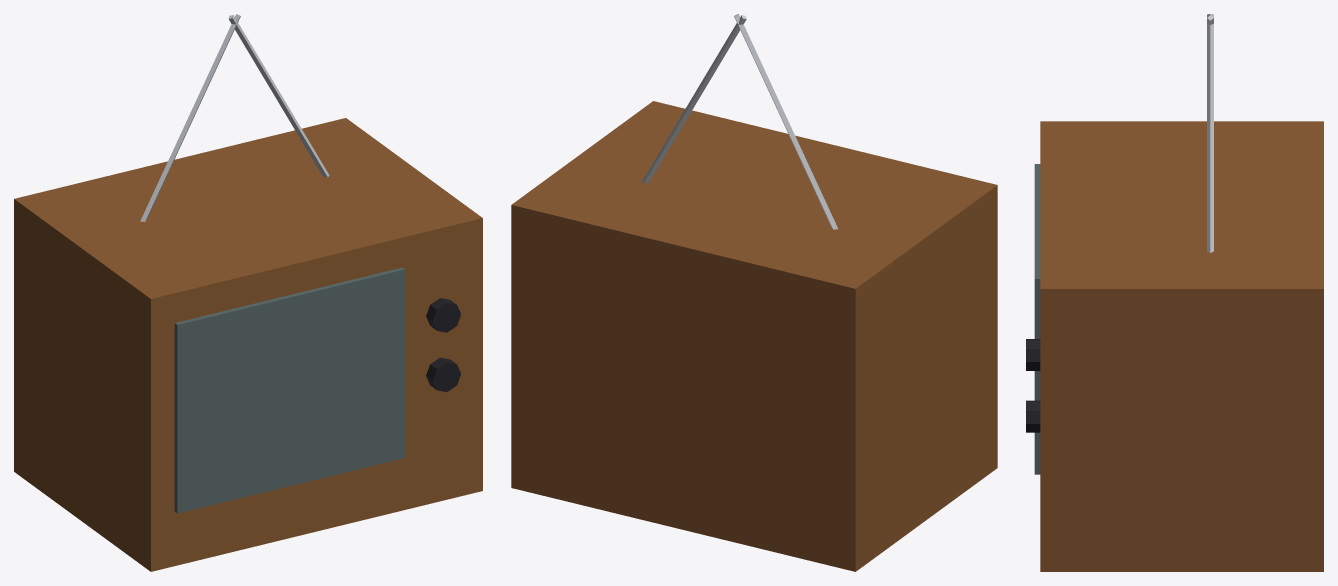
Rendered from old_tv.glb.
3 renders of one model, left to right at view 1: azimuth 30°, elevation 25°; view 2: azimuth 150°, elevation 25°; view 3: azimuth 270°, elevation 25°, orthographic. The views are drawn at different scales.
Visible parts, largest first — view 1: box_tv_wood, screen_tv_screen, antenna_tv_antenna (×2), knob_tv_knob (×2); view 2: box_tv_wood, antenna_tv_antenna (×2); view 3: box_tv_wood, screen_tv_screen, antenna_tv_antenna, knob_tv_knob (×2).
Part boxes in pixels (x1=…): box_tv_wood: x1=14, y1=118, x2=482, y2=571; screen_tv_screen: x1=174, y1=267, x2=404, y2=513; antenna_tv_antenna (×2): x1=140, y1=14, x2=329, y2=221; knob_tv_knob (×2): x1=426, y1=298, x2=461, y2=392; box_tv_wood: x1=511, y1=101, x2=997, y2=571; antenna_tv_antenna (×2): x1=642, y1=14, x2=837, y2=229; box_tv_wood: x1=1040, y1=121, x2=1323, y2=571; screen_tv_screen: x1=1034, y1=164, x2=1040, y2=474; antenna_tv_antenna: x1=1207, y1=14, x2=1213, y2=252; knob_tv_knob (×2): x1=1026, y1=339, x2=1040, y2=432.
Bounding box in the file's own units: 0.7 × 0.9203 × 0.525.
